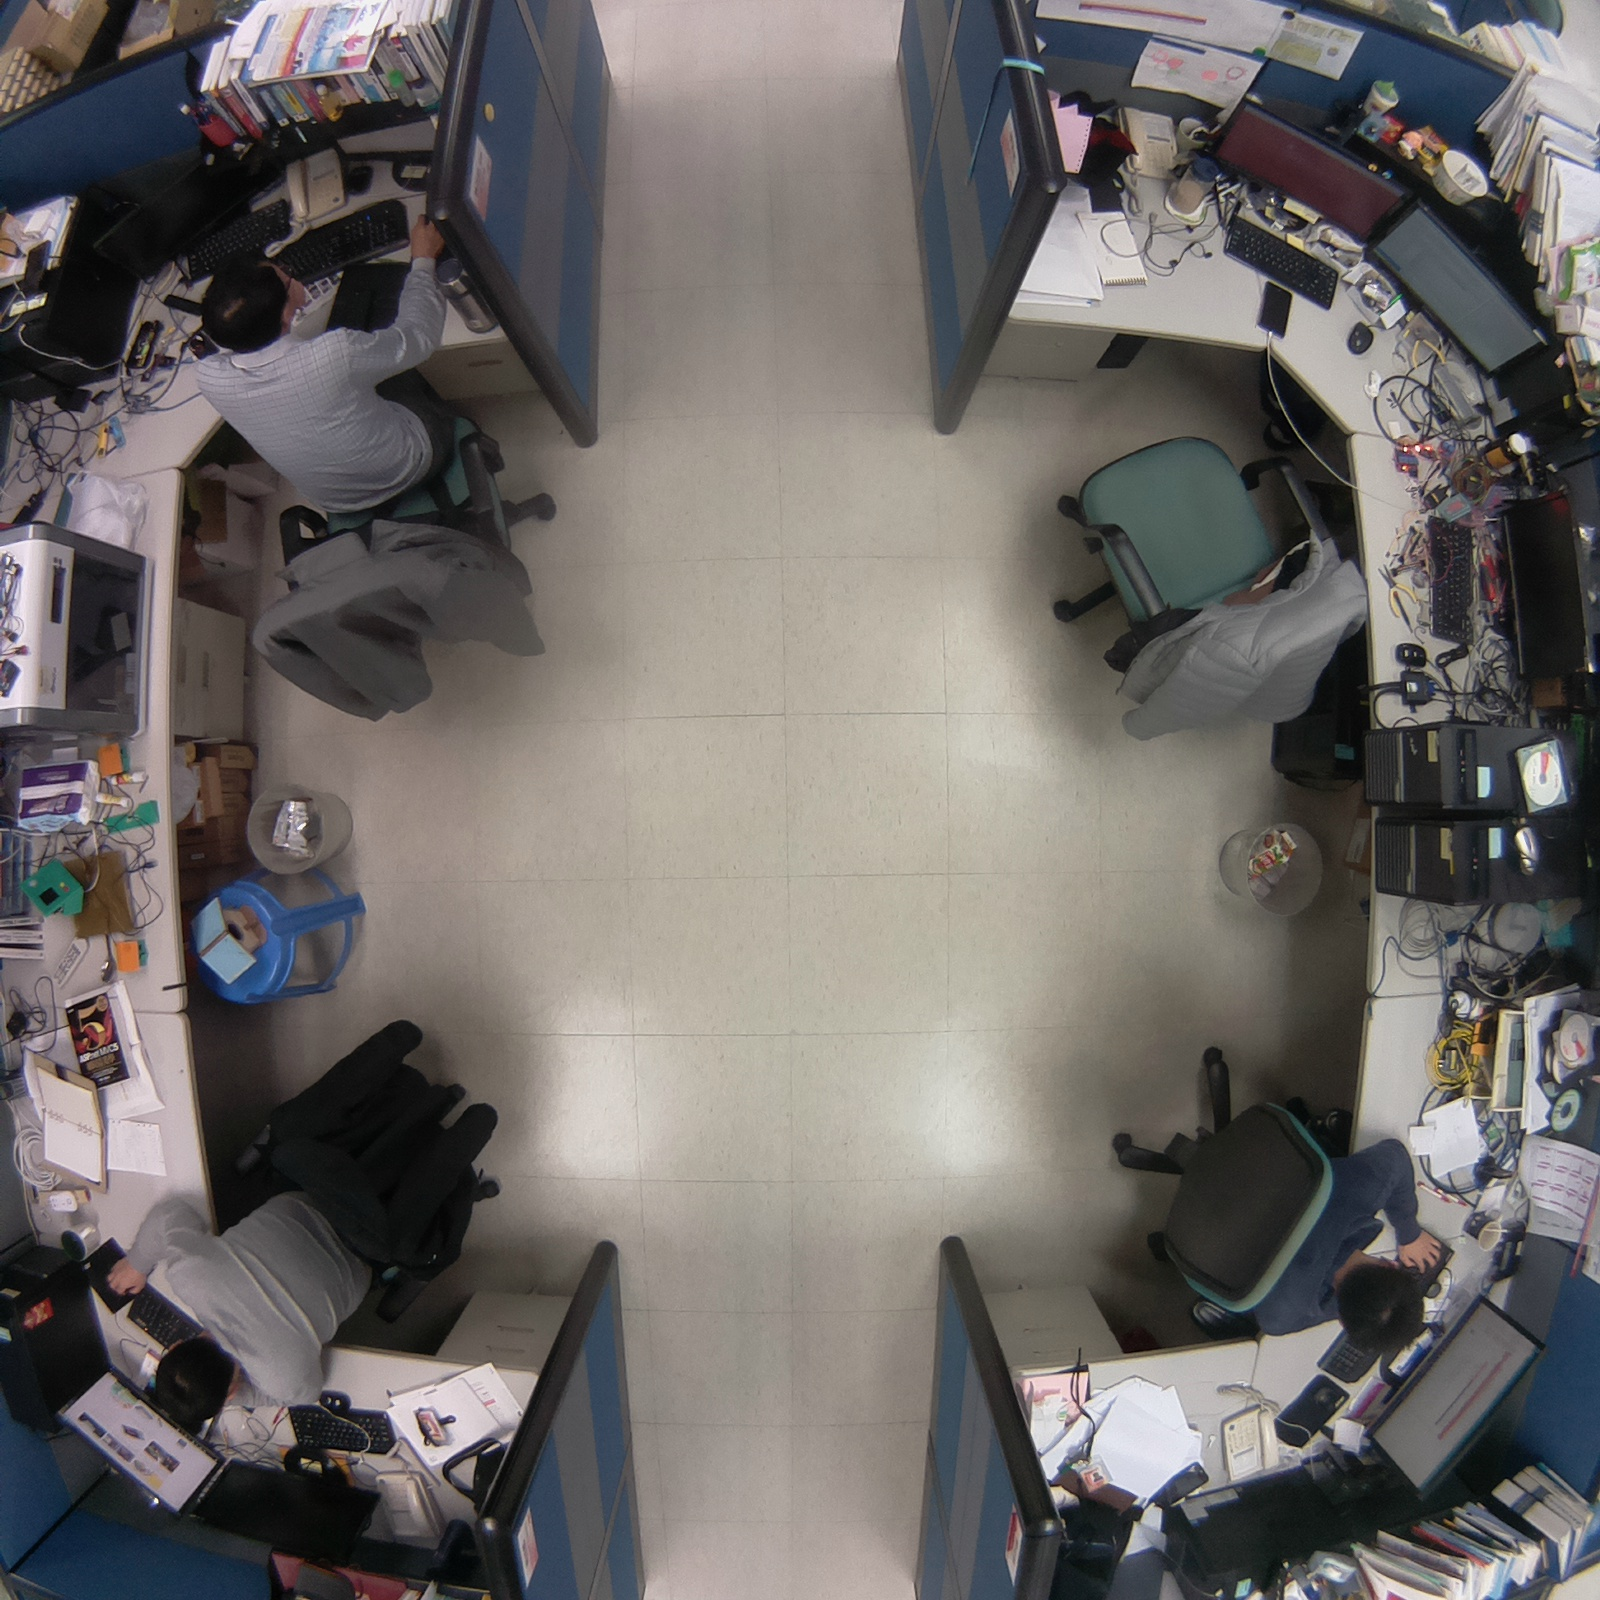chair: (1029, 393, 1378, 760)
head: (200, 248, 306, 355), (1325, 1251, 1429, 1361), (149, 1327, 240, 1440)
sitting: (181, 206, 573, 729), (104, 983, 540, 1447), (1086, 1019, 1442, 1370)
